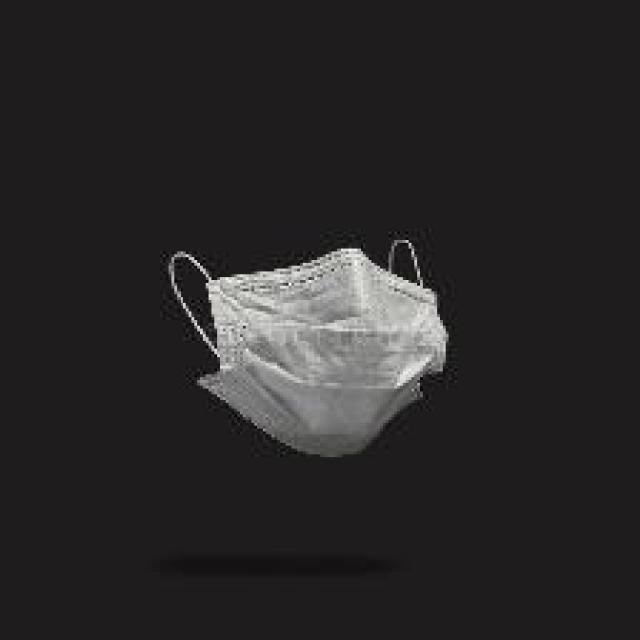Mask: (145, 199, 506, 499)
